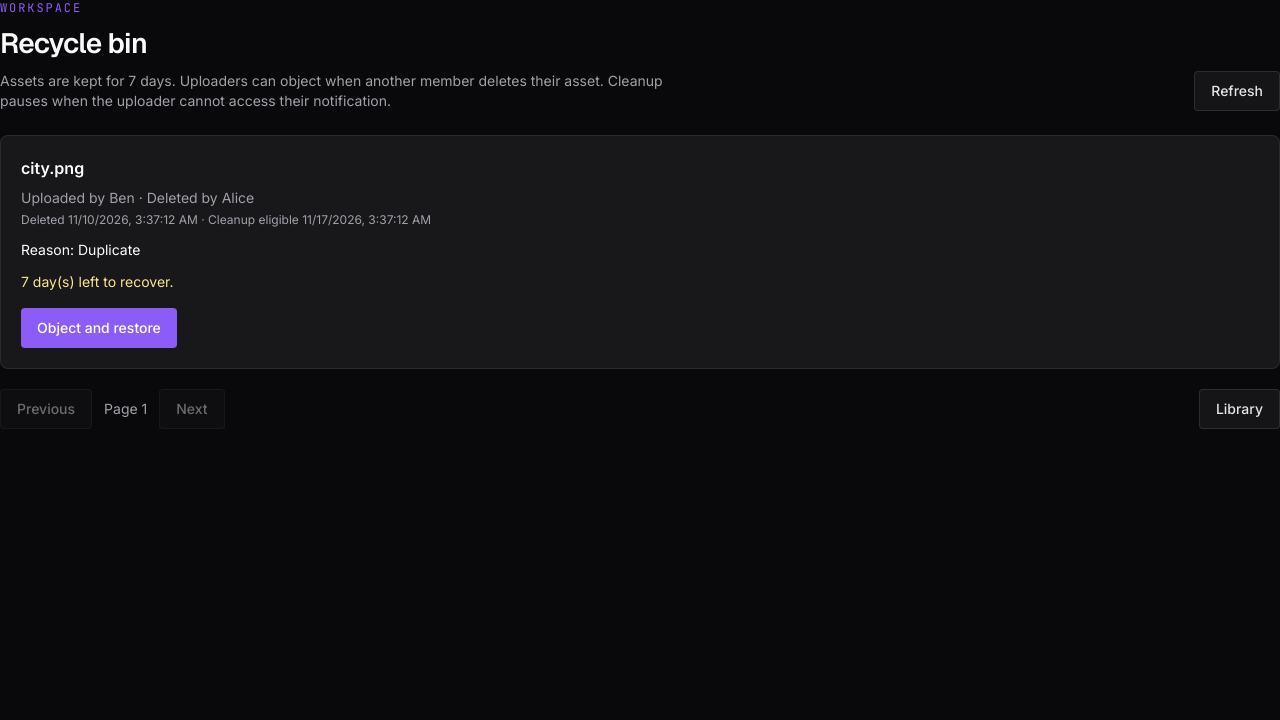
Test case: uploader can object and restore the exact deletion cycle without Owner approval
Click the button "Object and restore": click(99, 328) x1=21 y1=308 x2=177 y2=348
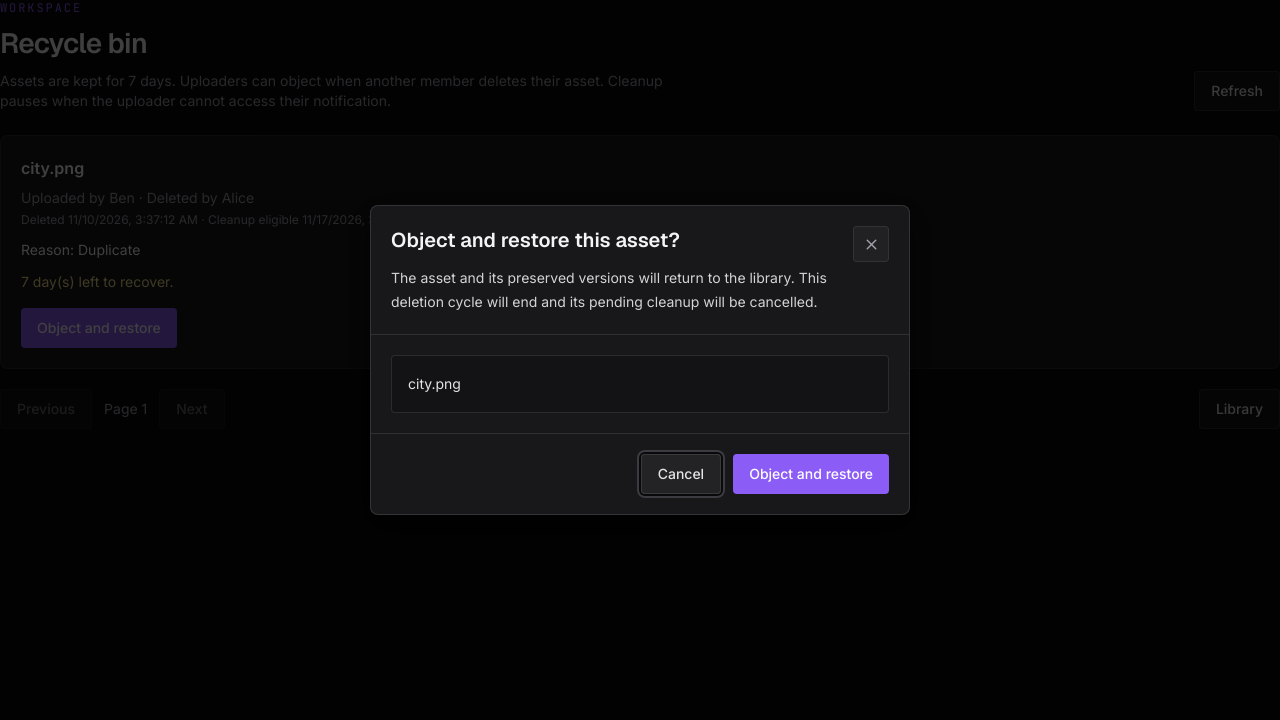
Click the button "Object and restore": click(811, 474) x1=733 y1=454 x2=889 y2=494
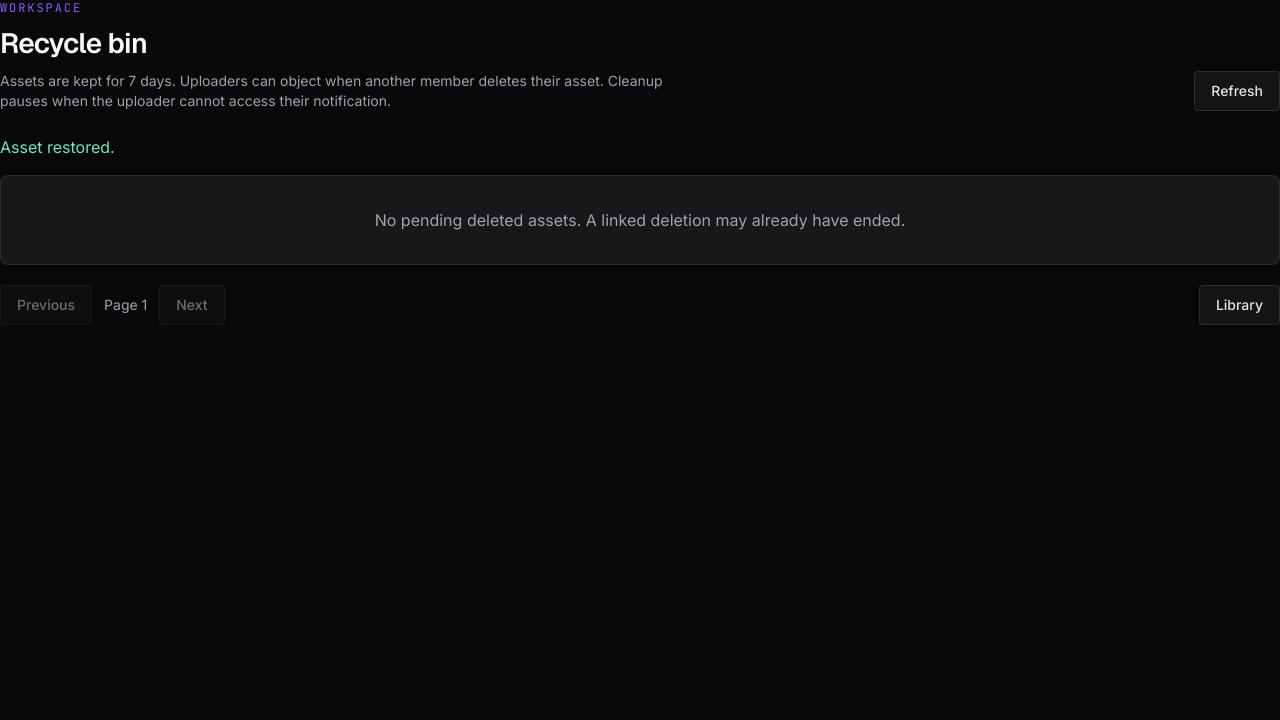
Expected: the text "Asset restored." is shown, x1=0 y1=136 x2=115 y2=156
